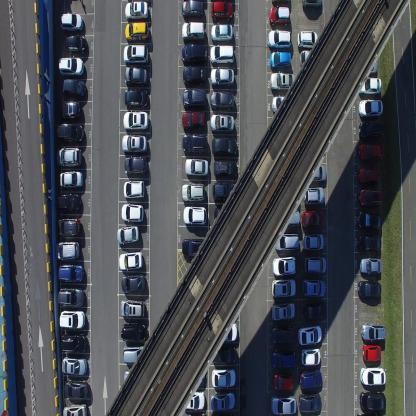car: (53, 122, 84, 144), (122, 43, 148, 66), (360, 390, 387, 412), (273, 208, 300, 230), (211, 320, 238, 342), (61, 354, 88, 376), (212, 180, 236, 204), (297, 323, 322, 346), (182, 64, 207, 87), (61, 77, 86, 100), (269, 70, 295, 92), (182, 133, 208, 155), (124, 21, 150, 43), (122, 109, 148, 131), (60, 332, 86, 354), (58, 262, 84, 284), (55, 216, 81, 238), (56, 146, 82, 168), (121, 133, 148, 154), (57, 287, 84, 308), (358, 142, 386, 162), (271, 93, 295, 116), (210, 42, 234, 65), (359, 119, 384, 141), (210, 390, 235, 412), (181, 110, 206, 132), (63, 378, 88, 400), (358, 187, 384, 208), (271, 394, 297, 415), (211, 135, 237, 156), (209, 90, 235, 111), (181, 42, 207, 63), (120, 321, 146, 342), (272, 254, 296, 276), (271, 300, 295, 322), (182, 87, 206, 109), (210, 66, 234, 88), (124, 66, 148, 88), (124, 154, 148, 176), (270, 324, 295, 345), (211, 367, 236, 388), (182, 205, 207, 226), (118, 250, 143, 271), (360, 366, 386, 386), (356, 210, 382, 230), (122, 344, 148, 364), (59, 309, 85, 329), (54, 240, 80, 260), (56, 193, 82, 213), (56, 100, 82, 120), (58, 56, 84, 76), (181, 237, 208, 256), (299, 368, 322, 390), (182, 389, 205, 411), (181, 20, 204, 42), (121, 201, 144, 223), (65, 34, 88, 56), (267, 29, 291, 50), (124, 0, 148, 21), (116, 224, 140, 245), (59, 169, 83, 190), (59, 12, 83, 33), (361, 321, 386, 341), (357, 76, 382, 96), (302, 301, 327, 321), (274, 232, 299, 252), (271, 278, 296, 298), (214, 206, 239, 226), (184, 157, 209, 177), (210, 113, 235, 133), (120, 298, 145, 318), (210, 345, 237, 363), (269, 49, 291, 71), (358, 279, 381, 300), (302, 277, 325, 298), (210, 0, 233, 21), (357, 233, 381, 253), (299, 50, 323, 70), (213, 158, 237, 178), (124, 88, 148, 108), (121, 273, 145, 293), (358, 98, 383, 117), (271, 349, 296, 368), (269, 4, 290, 26), (123, 179, 145, 200), (210, 22, 233, 42), (298, 393, 322, 412), (123, 368, 147, 387), (356, 56, 378, 76), (304, 164, 326, 184), (304, 254, 326, 274), (184, 368, 206, 388), (301, 209, 324, 228), (181, 0, 204, 19), (181, 183, 205, 201), (297, 30, 318, 50), (358, 166, 380, 185), (302, 232, 324, 251), (272, 372, 294, 391), (362, 342, 382, 362), (304, 184, 324, 204), (360, 257, 382, 275), (300, 347, 320, 366), (62, 402, 88, 416), (301, 0, 322, 10), (186, 412, 207, 415)
